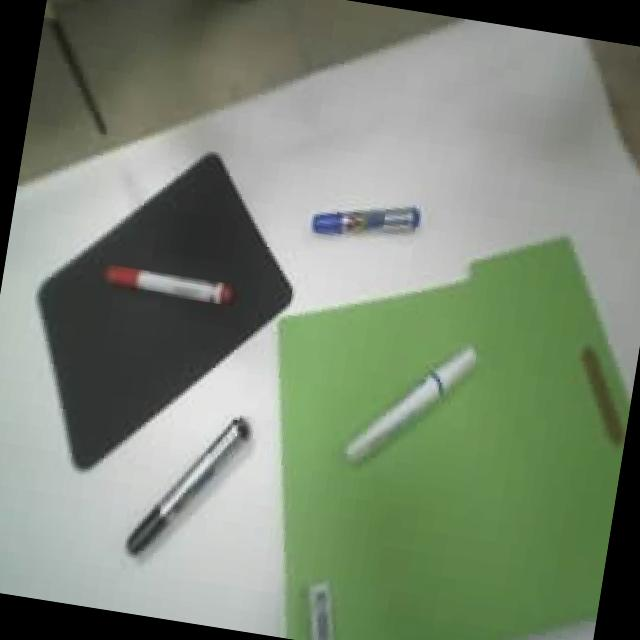board-marker: (126, 419, 249, 553), (347, 346, 475, 461), (104, 265, 232, 302), (311, 205, 420, 234)
